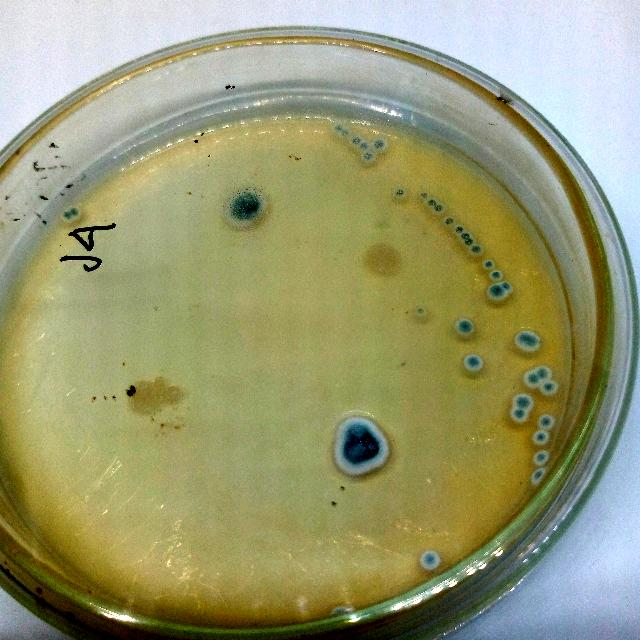colony: (329, 412, 397, 482), (224, 184, 270, 232), (359, 239, 406, 279), (125, 378, 164, 419), (515, 328, 543, 354), (160, 383, 186, 407), (418, 550, 444, 572), (456, 316, 478, 338), (461, 354, 485, 374), (512, 392, 534, 412), (486, 282, 508, 302), (532, 362, 554, 381), (510, 405, 530, 425), (532, 448, 552, 468), (523, 370, 543, 390), (538, 411, 556, 431), (531, 429, 551, 447), (530, 466, 548, 486), (540, 378, 560, 396), (372, 136, 390, 154), (67, 204, 83, 220), (412, 304, 428, 318), (470, 242, 484, 258), (60, 208, 74, 224), (152, 373, 168, 387), (498, 280, 514, 294), (489, 268, 503, 282), (482, 258, 496, 272), (361, 150, 375, 164), (358, 141, 372, 153), (351, 135, 363, 147), (333, 123, 345, 135), (444, 216, 454, 228), (394, 188, 406, 198), (460, 231, 470, 241), (434, 204, 444, 214), (427, 198, 437, 208), (341, 128, 351, 138), (464, 238, 474, 246), (454, 226, 464, 234), (419, 191, 428, 199)
